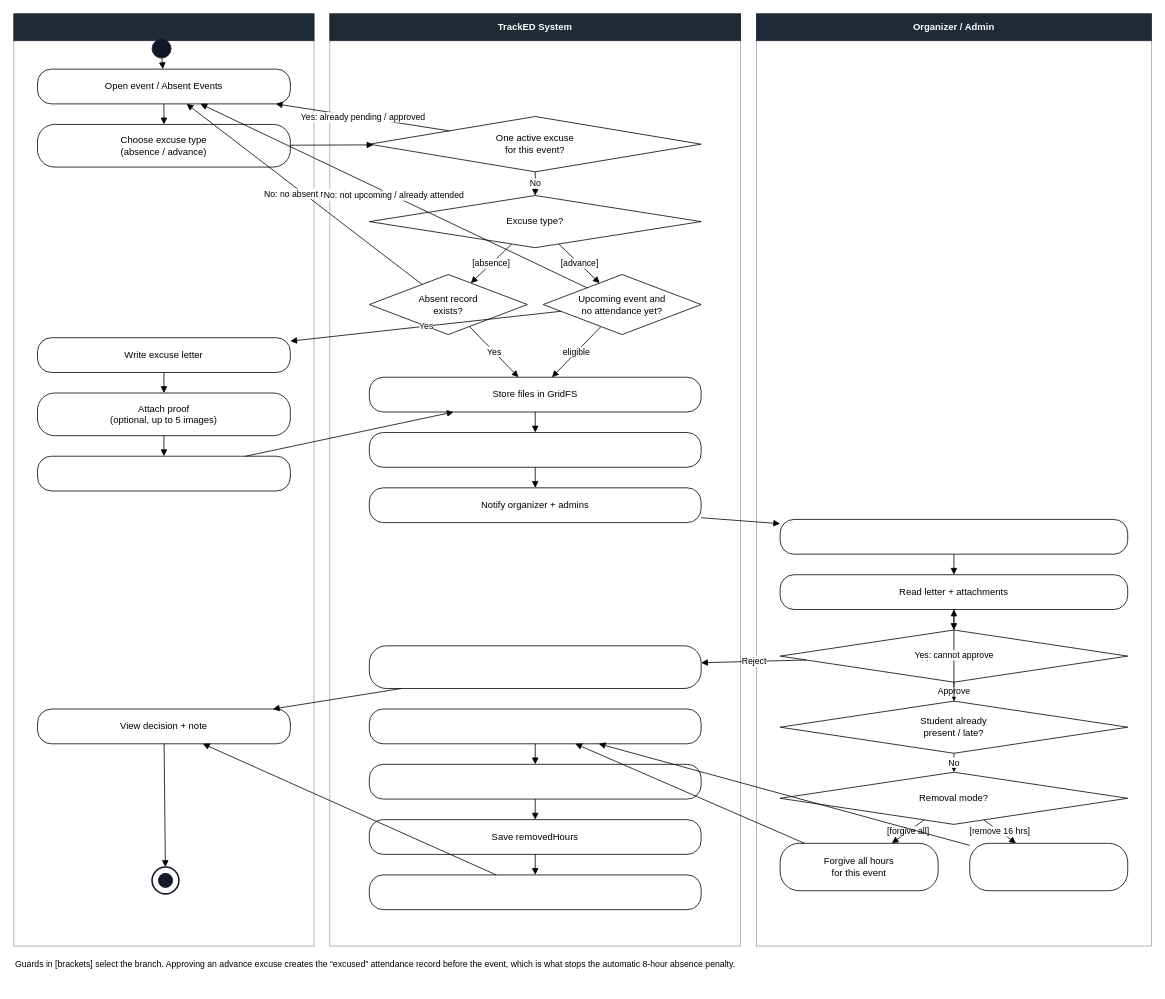
Some shapes in this 1165 by 999 pixel diagram are drawn without their labels. Each missing label, with the centre of its shape:
Adjust CS hours + log: the point at 535,781
Create Excuse (pending): the point at 535,449
Notify student of decision: the point at 535,892
Open Excuse queue: the point at 953,536
Record rejection, notify student: the point at 535,666
Remove flat 16 hours: the point at 1048,867
Set attendance = excused: the point at 535,726
Student: the point at 163,27
Submit excuse letter: the point at 163,473
